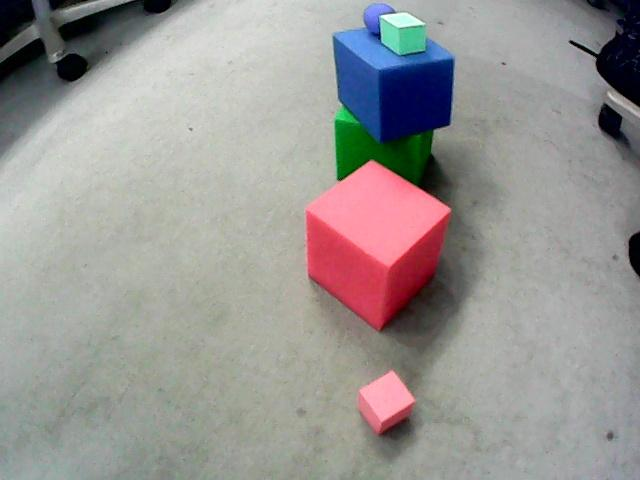blue_block: (333, 28, 454, 142)
red_block: (306, 161, 450, 329), (358, 371, 415, 435)
